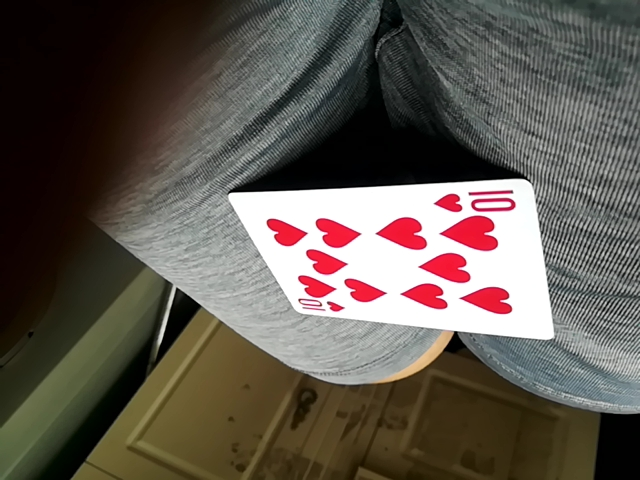hx 10: (230, 181, 551, 337)
